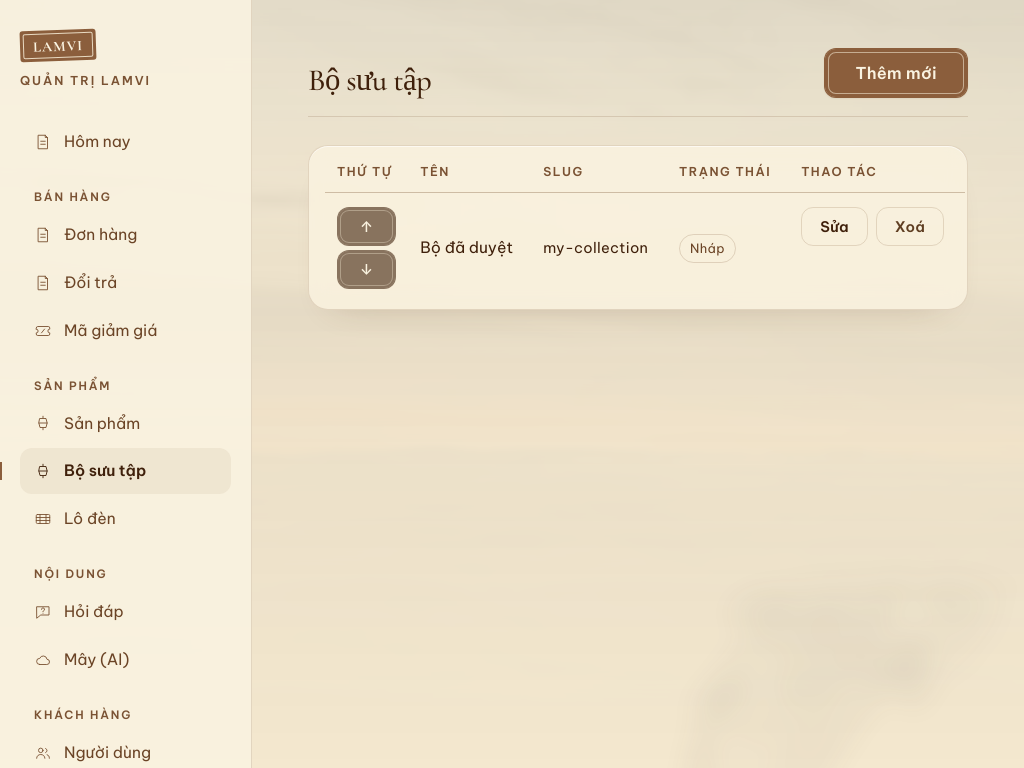
it: shows actionable delete conflict and collection load retry
Click the button "Xoá" at (910, 227), box [876,207,944,246]
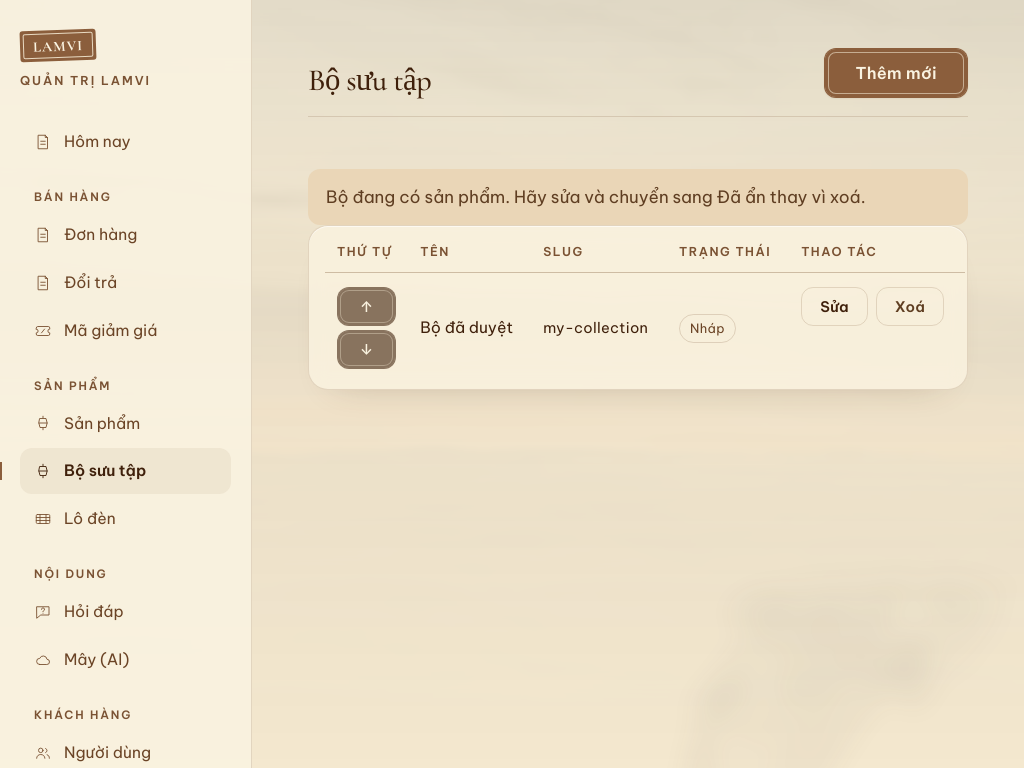
Now the message shows "chuyển sang Đã ẩn", box [326,186,866,208]
